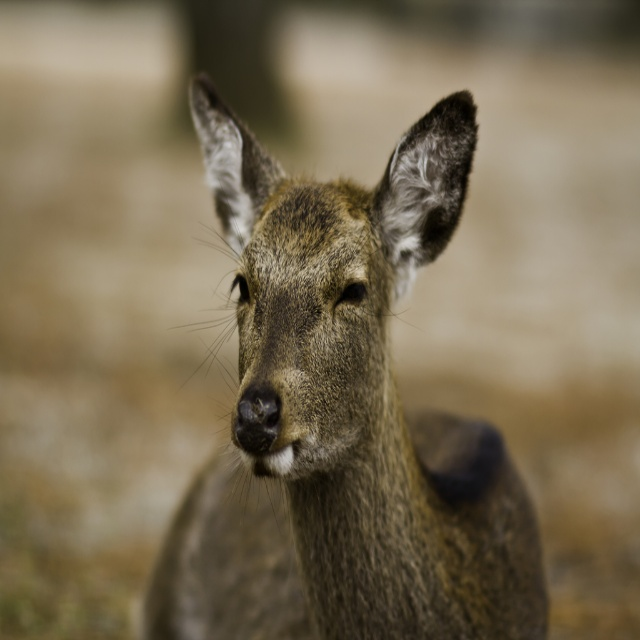Deer: (136, 67, 549, 639)
